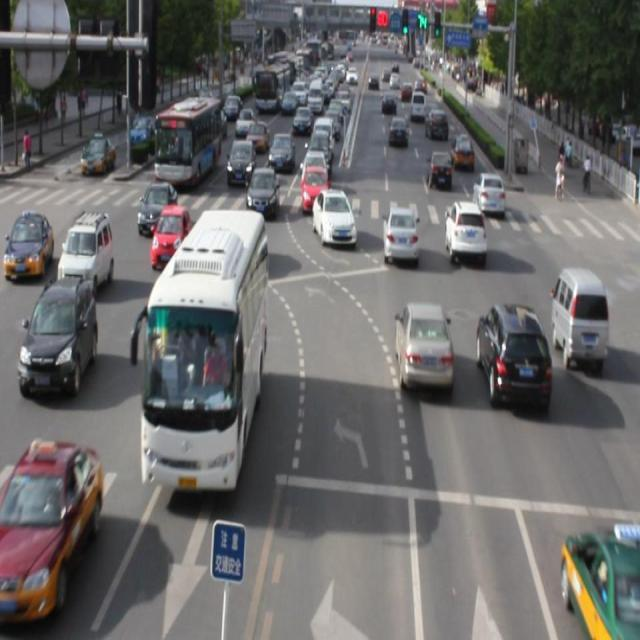BigCar: (154, 229, 272, 514), (161, 106, 212, 188)
car: (2, 415, 94, 604), (560, 498, 640, 640), (472, 294, 550, 429), (541, 257, 617, 389), (26, 274, 99, 404), (391, 295, 447, 417), (1, 184, 56, 290), (63, 214, 115, 302), (311, 182, 353, 260), (440, 192, 480, 270), (248, 165, 288, 243), (469, 154, 512, 226), (148, 200, 192, 264), (385, 202, 422, 278), (128, 165, 165, 237), (84, 117, 120, 180), (420, 94, 456, 149), (422, 154, 460, 202), (448, 129, 482, 179), (301, 152, 329, 204), (292, 92, 319, 144), (222, 138, 251, 186), (270, 123, 292, 178), (392, 114, 419, 158), (235, 98, 258, 139), (365, 65, 386, 101), (381, 85, 400, 120)
